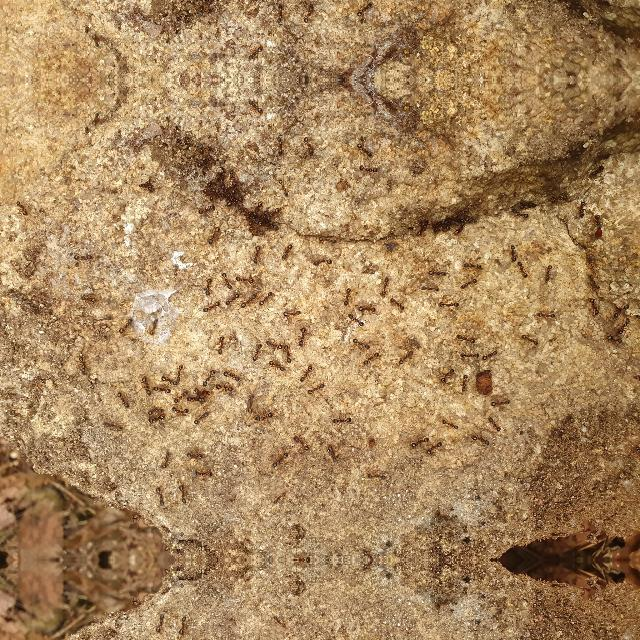Apheanogaster: (269, 450, 293, 470), (153, 484, 171, 510), (153, 610, 171, 636), (301, 134, 319, 158), (301, 2, 319, 26), (154, 449, 173, 471), (145, 316, 163, 339), (178, 482, 195, 506), (178, 614, 195, 638), (297, 363, 317, 383), (484, 414, 504, 434), (437, 364, 457, 384), (115, 316, 135, 336), (115, 390, 135, 410), (291, 433, 313, 451), (100, 419, 126, 433), (534, 306, 560, 320), (205, 226, 223, 246), (394, 348, 414, 366), (273, 135, 289, 157), (360, 350, 382, 366), (518, 332, 540, 348), (586, 296, 602, 318), (340, 284, 356, 306), (247, 242, 263, 264), (273, 3, 289, 25), (469, 434, 493, 448), (344, 312, 368, 326), (330, 412, 358, 424), (266, 358, 290, 372), (248, 341, 264, 362), (11, 200, 29, 218), (200, 368, 218, 386), (456, 276, 479, 290), (193, 410, 213, 426), (276, 177, 292, 197), (456, 373, 472, 393), (354, 143, 374, 159), (137, 376, 153, 396), (74, 352, 90, 372), (126, 510, 146, 526), (539, 262, 555, 282), (387, 295, 407, 311), (506, 243, 522, 263), (195, 143, 211, 163), (377, 274, 393, 294), (354, 1, 374, 17), (126, 594, 146, 610), (364, 470, 390, 482), (487, 397, 513, 409), (452, 332, 478, 344), (462, 258, 488, 270), (424, 266, 450, 278), (306, 382, 328, 396), (349, 336, 371, 350), (409, 435, 431, 449), (200, 299, 222, 313), (294, 326, 308, 348), (213, 334, 227, 356), (574, 198, 588, 220), (432, 222, 454, 236), (324, 444, 341, 462), (414, 218, 431, 236), (247, 99, 266, 115), (247, 45, 266, 61), (356, 162, 380, 174), (439, 418, 463, 430), (239, 292, 257, 308), (279, 242, 295, 260), (264, 338, 288, 350), (586, 273, 602, 291), (453, 217, 469, 235), (516, 260, 532, 278), (418, 282, 442, 294), (196, 153, 214, 169), (272, 490, 290, 506), (588, 164, 606, 180), (272, 614, 290, 630), (510, 207, 532, 220), (424, 442, 444, 456), (480, 348, 500, 362), (612, 304, 632, 318), (201, 276, 215, 296), (145, 412, 165, 426), (243, 392, 257, 412), (218, 270, 232, 290), (255, 410, 278, 422), (311, 256, 334, 268), (316, 236, 339, 248), (227, 195, 246, 209), (173, 362, 187, 381), (196, 204, 218, 216), (223, 370, 245, 382), (192, 468, 216, 479), (232, 274, 254, 286), (548, 194, 570, 206), (260, 290, 276, 306), (171, 388, 187, 404), (617, 318, 633, 334), (195, 0, 211, 16), (222, 292, 240, 306), (591, 212, 605, 230), (212, 382, 234, 393), (438, 298, 462, 308), (280, 308, 304, 318), (159, 373, 179, 385), (228, 169, 240, 189), (72, 252, 95, 262), (198, 389, 214, 403), (182, 450, 204, 460), (458, 350, 480, 360), (356, 304, 378, 314), (184, 394, 206, 404), (518, 198, 540, 208), (138, 180, 156, 192), (282, 344, 294, 362), (605, 333, 623, 345), (80, 294, 100, 304), (154, 386, 174, 396), (170, 407, 190, 417), (251, 201, 265, 215), (235, 202, 249, 216), (159, 540, 173, 554), (159, 566, 173, 580), (359, 548, 375, 560), (268, 207, 284, 219), (220, 180, 236, 192), (288, 551, 312, 559), (359, 560, 375, 572), (288, 561, 312, 569), (629, 371, 639, 389), (92, 110, 104, 124), (92, 36, 104, 50), (256, 212, 268, 225), (268, 218, 280, 230), (248, 226, 266, 234), (209, 191, 223, 201), (200, 185, 217, 193), (418, 218, 429, 230), (245, 214, 259, 222), (596, 152, 610, 160), (196, 0, 214, 6), (596, 1, 610, 8), (250, 212, 258, 224)
